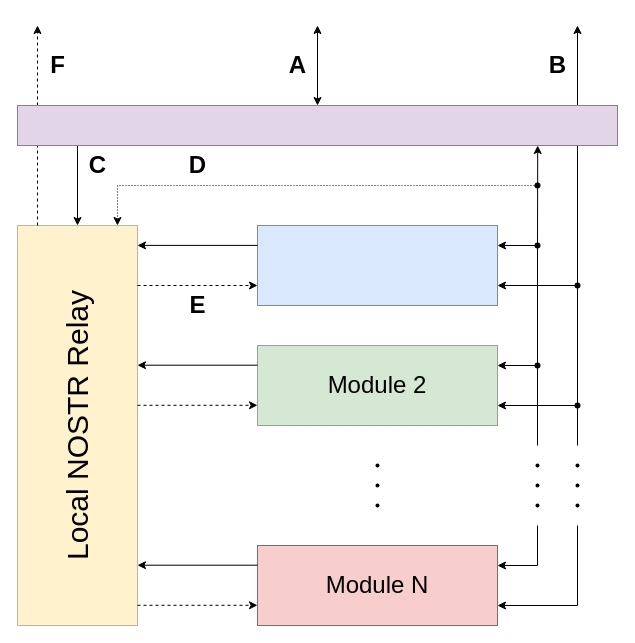
Image size: 635x643. Some labels were removed from this diagram. Each missing label, with the box of its shape:
API Gateway: (16, 104, 618, 146)
Module 1: (256, 224, 498, 306)
